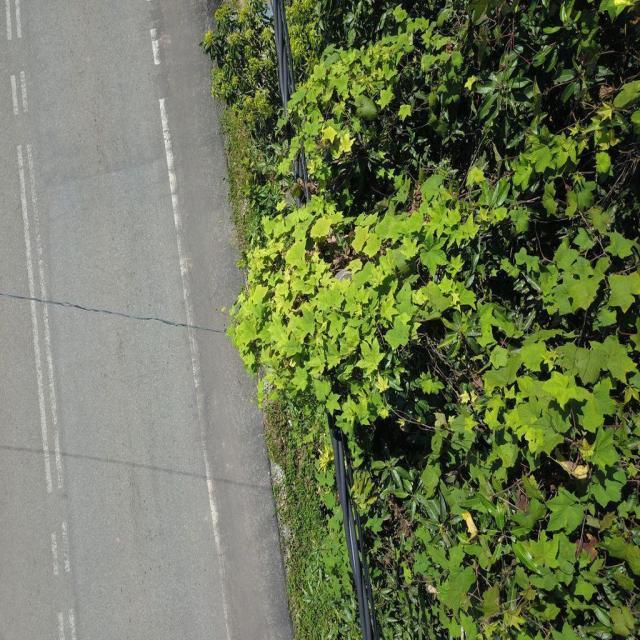critical vegetation: (218, 199, 420, 441)
